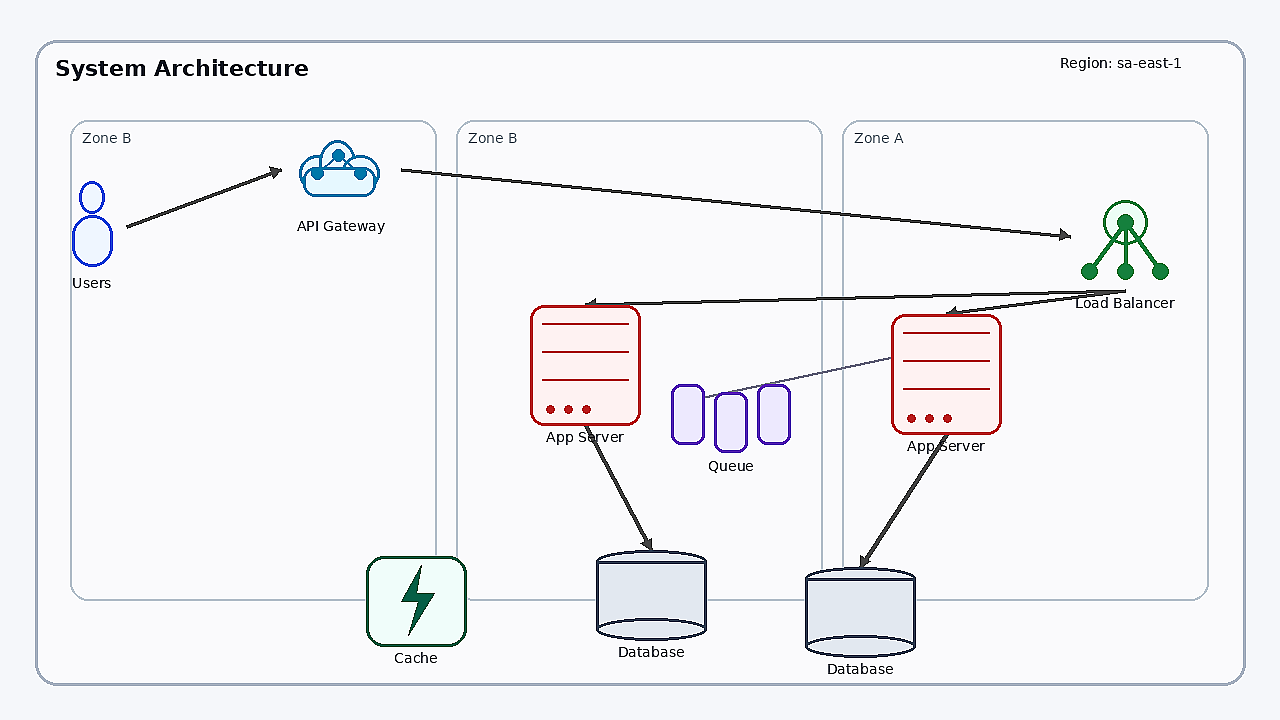API Gateway: (281, 124, 401, 214)
Application Server: (530, 305, 640, 425), (891, 314, 1001, 434)
Cache: (366, 556, 466, 646)
Database: (596, 550, 706, 640), (805, 567, 915, 657)
Load Balancer: (1070, 181, 1180, 291)
Message Queue: (671, 384, 791, 454)
User: (57, 181, 127, 271)
